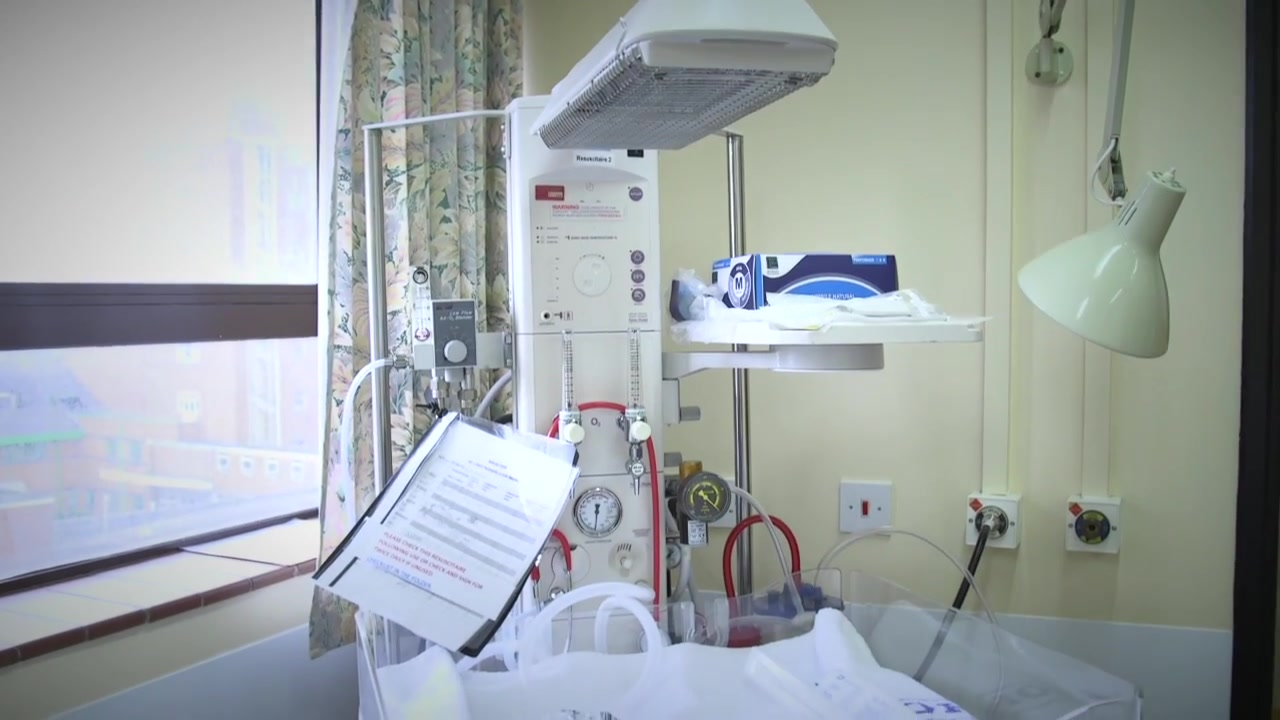breathing_tube: (455, 581, 662, 715)
curtain: (311, 1, 528, 650)
panda_baby_warmer: (362, 1, 1247, 716)
